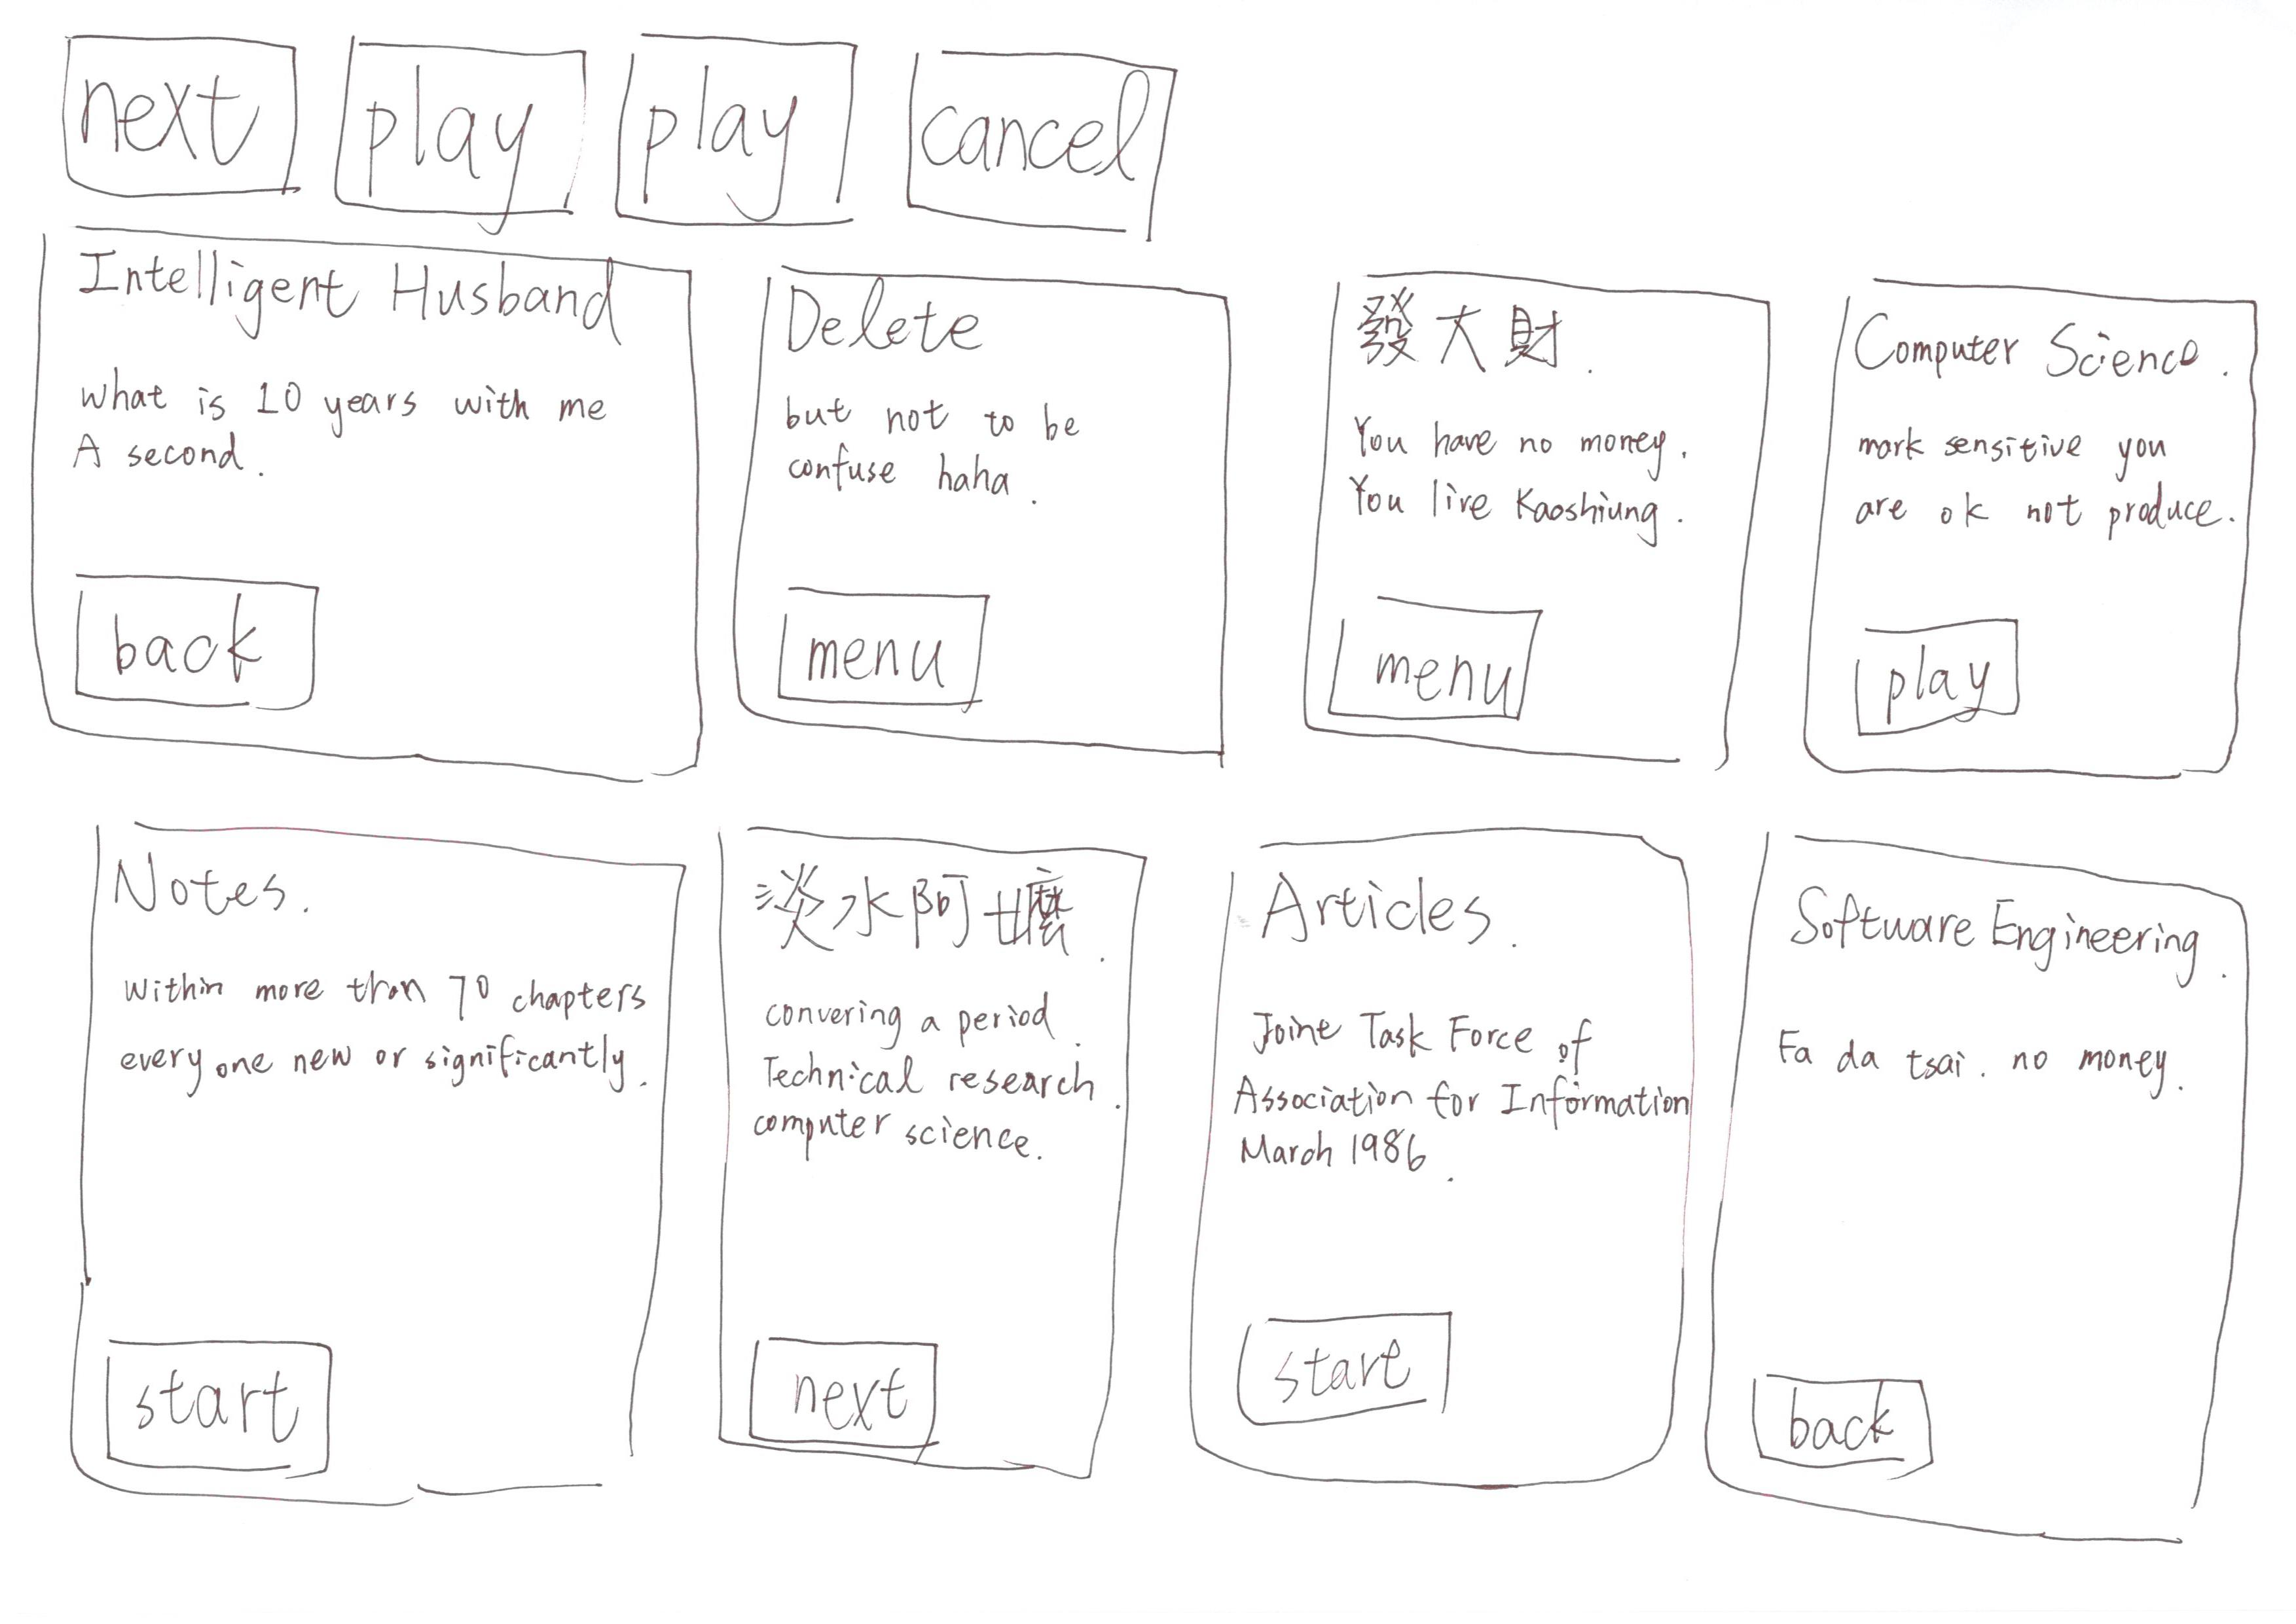back: (54, 554, 359, 726), (1726, 1330, 1973, 1492)
cancel: (881, 21, 1239, 271)
menu: (1306, 585, 1577, 754), (765, 566, 1016, 736)
next: (37, 11, 323, 209), (733, 1322, 967, 1482)
play: (311, 5, 601, 250), (610, 4, 870, 257), (1828, 587, 2045, 756)
quadruple: (46, 777, 698, 1582), (1162, 786, 1732, 1557), (12, 206, 723, 819), (1704, 798, 2284, 1538), (689, 805, 1176, 1536), (716, 237, 1278, 794), (1791, 220, 2280, 816), (1271, 250, 1802, 793)
row: (0, 798, 2296, 1592), (0, 227, 2296, 812), (18, 0, 2296, 241)
small-title: (76, 236, 635, 344), (1783, 868, 2229, 998), (756, 840, 1083, 972), (1853, 302, 2243, 410), (1262, 852, 1538, 982), (107, 849, 339, 961), (784, 272, 1000, 371), (1370, 288, 1577, 383)
start: (90, 1320, 364, 1487), (1225, 1295, 1484, 1457)
text: (113, 953, 650, 1125), (1243, 997, 1665, 1207), (54, 353, 635, 492), (752, 974, 1095, 1174), (1364, 395, 1711, 573), (1855, 401, 2219, 562), (1765, 1007, 2192, 1142), (761, 388, 1083, 515)
